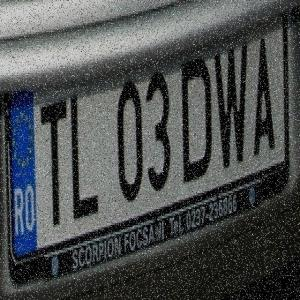Plate: (2, 23, 294, 287)
